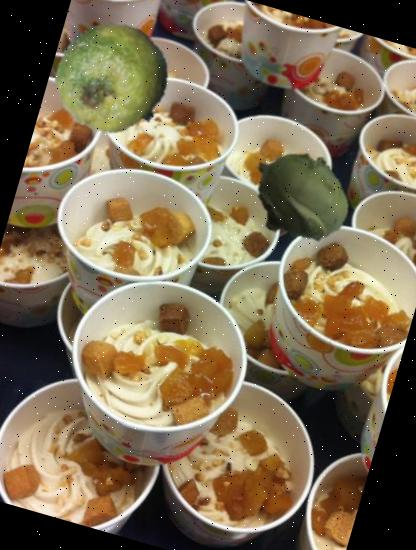Kohlrabi: (232, 129, 366, 263)
Limes: (43, 10, 182, 148)
